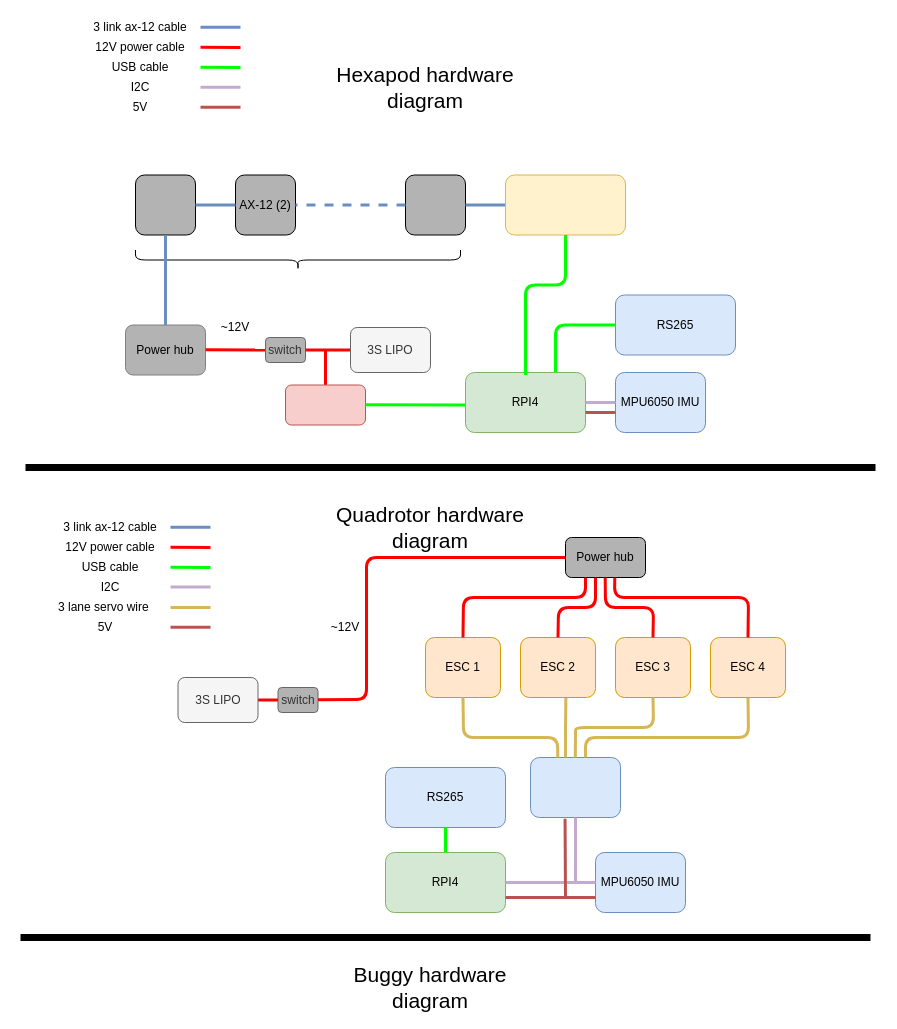
This 897x1029 diagram has some shape labels left out. Each missing label, with the centre of its shape:
"18 servos daisy chained" belongs at (x=297, y=259).
"AX-12 (1)" belongs at (x=165, y=204).
"AX-12 (18)" belongs at (x=435, y=204).
"AX2USB Dongle" belongs at (x=565, y=204).
"DC-DC Step down to 5V" belongs at (x=325, y=404).
"PCA9685" belongs at (x=575, y=787).
